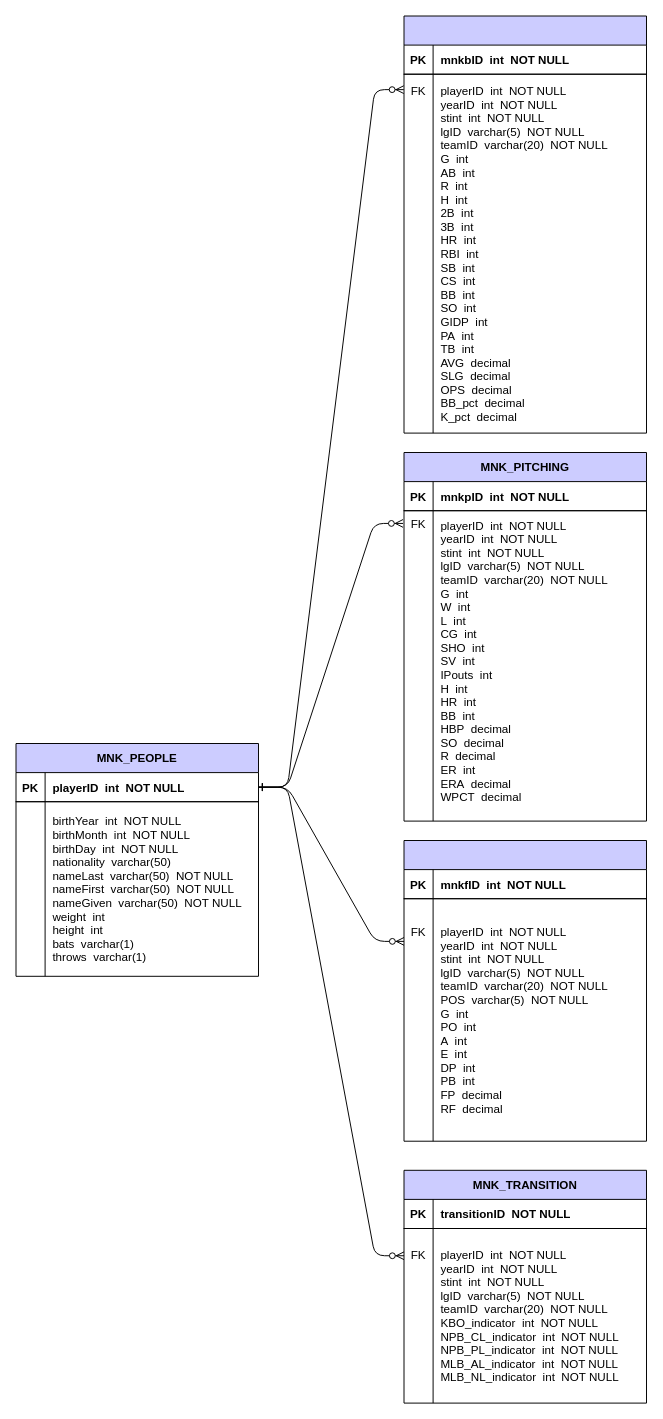
Image size: 663x1419. Some labels were removed from this diagram. Each missing label, with the box of its shape:
MNK_BATTING: (403, 15, 647, 433)
MNK_FIELDING: (403, 840, 647, 1141)
